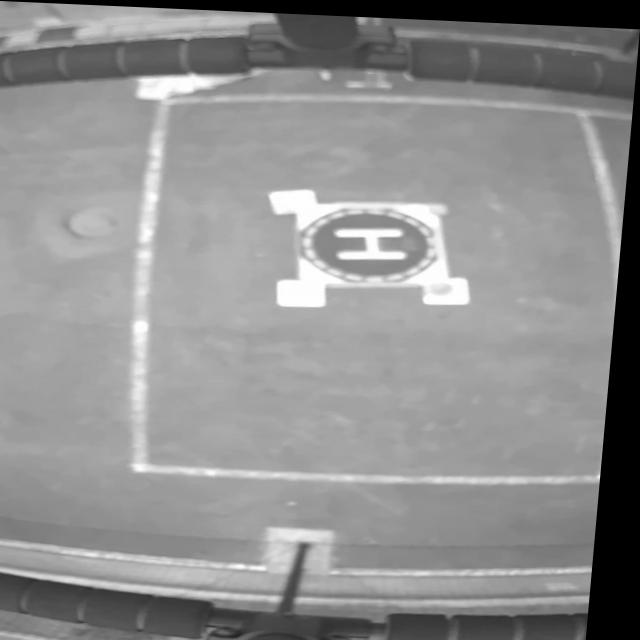Helipad: (339, 224, 412, 256)
